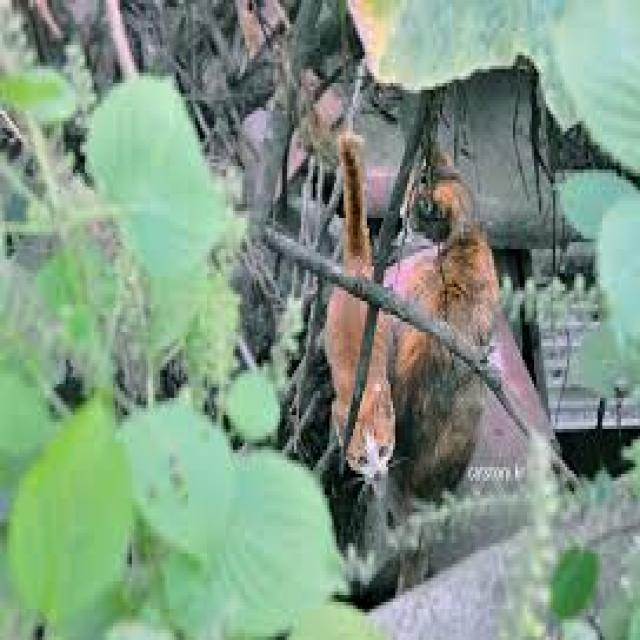cat: (290, 151, 520, 483)
